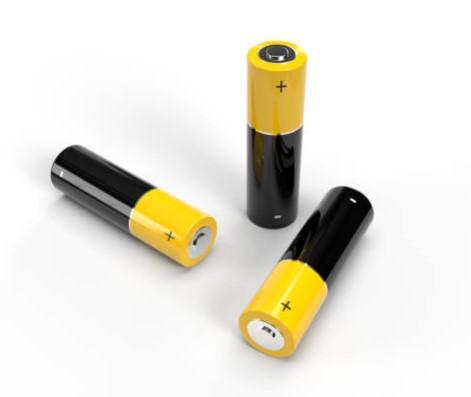Battery: (240, 187, 374, 358), (51, 146, 217, 268), (247, 40, 308, 228)
